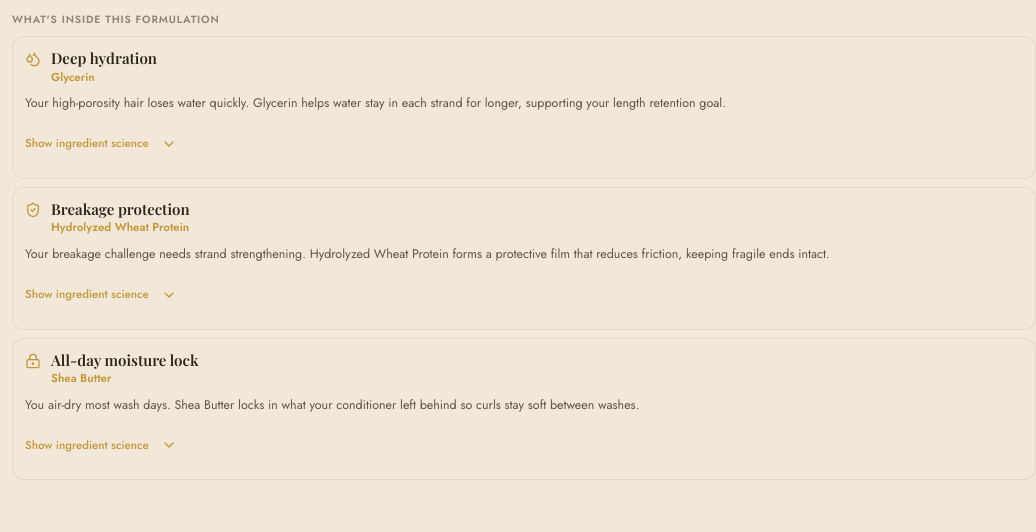
IngredientBenefitCards › waits one second, prefetches per card, and reveals cached science on tap
Click the button "Show ingredient science" below "Breakage protection".
click(101, 294)  # box [25,272,177,316]
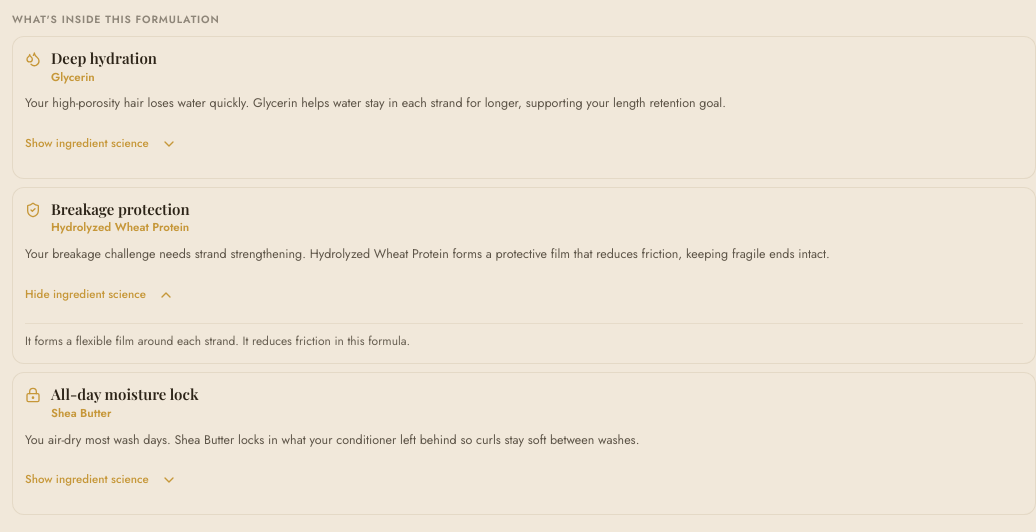
Now the text "forms a flexible film around each strand" is shown, box [25,332,410,350]
